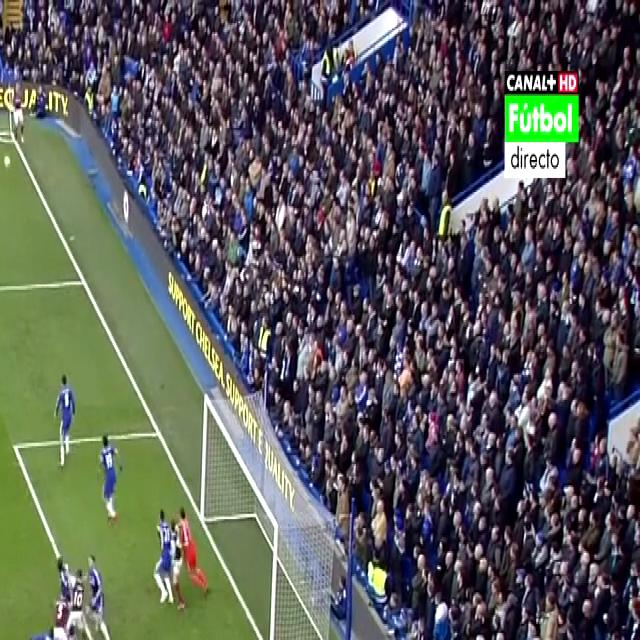ball: (0, 146, 8, 176)
goalkeeper: (176, 502, 208, 608)
soccer-player: (49, 360, 78, 473), (95, 423, 124, 530), (152, 499, 180, 606), (84, 547, 112, 640), (9, 85, 31, 154), (24, 618, 55, 640), (56, 629, 92, 640)
